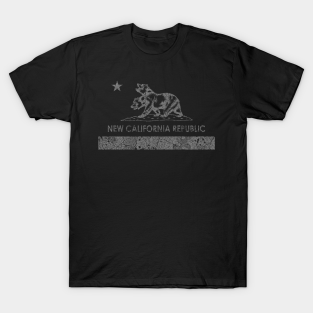design: (95, 78, 217, 152)
